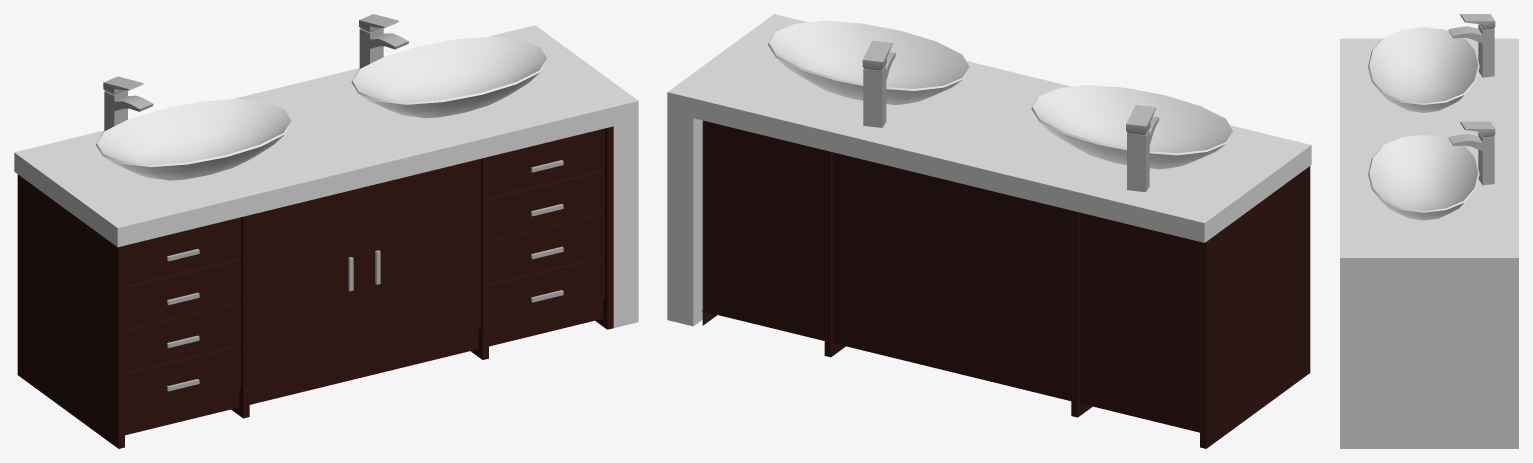
The picture shows the model from 3 angles, left to right: view 1: azimuth 30°, elevation 25°; view 2: azimuth 150°, elevation 25°; view 3: azimuth 270°, elevation 25°; orthographic projection. The views are drawn at different scales.
Visible parts, largest first — view 1: bathroom_item_010; view 2: bathroom_item_010; view 3: bathroom_item_010.
Part boxes in pixels (left/top/right/bottom): bathroom_item_010: left=14, top=14, right=638, bottom=448; bathroom_item_010: left=667, top=14, right=1311, bottom=448; bathroom_item_010: left=1340, top=14, right=1518, bottom=448.
Size of the model in its own units: 1.82 by 0.9665 by 0.627.
